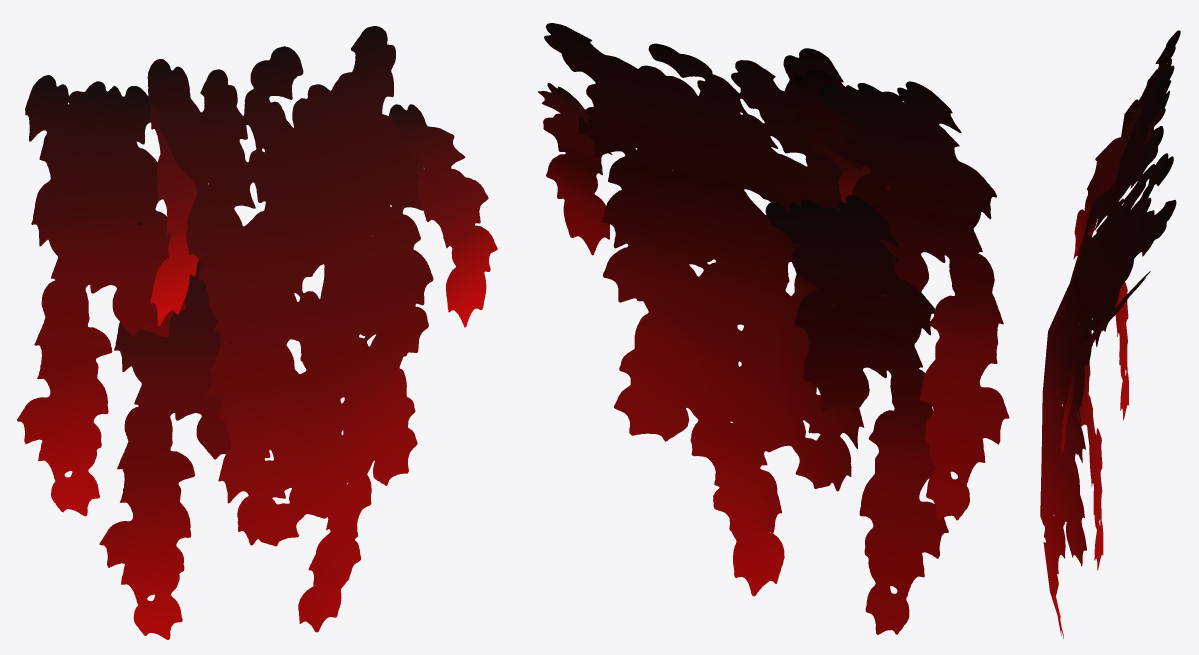
Rendered from Vine_02.fbx.
3 views of the same model, side by side, from view 1: azimuth 30°, elevation 25°; view 2: azimuth 150°, elevation 25°; view 3: azimuth 270°, elevation 25° (orthographic). The views are drawn at different scales.
Parts seen in each view (by area): view 1: Vine_02; view 2: Vine_02; view 3: Vine_02.
Boxes of the visible parts, box(x1,y1,x2,y2) form: Vine_02: box(17, 26, 497, 639); Vine_02: box(538, 23, 1009, 634); Vine_02: box(1040, 30, 1180, 638).
Size of the model in its own units: 260 by 316 by 78.29.
